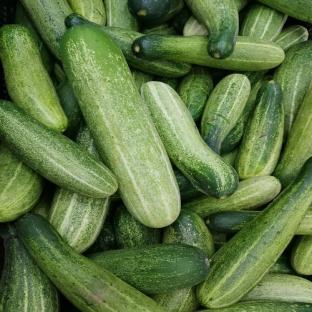Cucumber: (62, 25, 180, 227), (198, 158, 311, 308), (16, 214, 164, 311), (0, 101, 117, 197), (142, 82, 237, 198), (66, 15, 190, 77), (0, 25, 68, 131), (88, 244, 209, 293), (133, 35, 284, 71), (0, 225, 59, 311), (235, 81, 283, 179), (183, 176, 280, 217), (201, 74, 250, 154), (49, 188, 109, 253), (273, 85, 311, 187), (221, 74, 270, 152), (274, 41, 311, 137), (0, 144, 43, 222), (15, 0, 54, 73), (163, 210, 214, 257), (114, 206, 161, 248), (243, 274, 311, 303), (178, 66, 213, 121), (239, 2, 287, 41), (57, 78, 82, 139), (206, 211, 260, 233), (151, 287, 200, 311), (199, 301, 311, 311), (87, 220, 116, 253), (31, 181, 56, 219), (175, 169, 202, 202), (291, 235, 312, 275), (275, 26, 308, 50), (172, 7, 191, 35), (270, 255, 296, 275), (183, 15, 208, 35), (132, 69, 153, 90), (142, 23, 177, 34), (297, 208, 311, 234), (154, 76, 179, 90), (211, 232, 228, 251), (221, 148, 238, 166), (54, 62, 66, 83)
